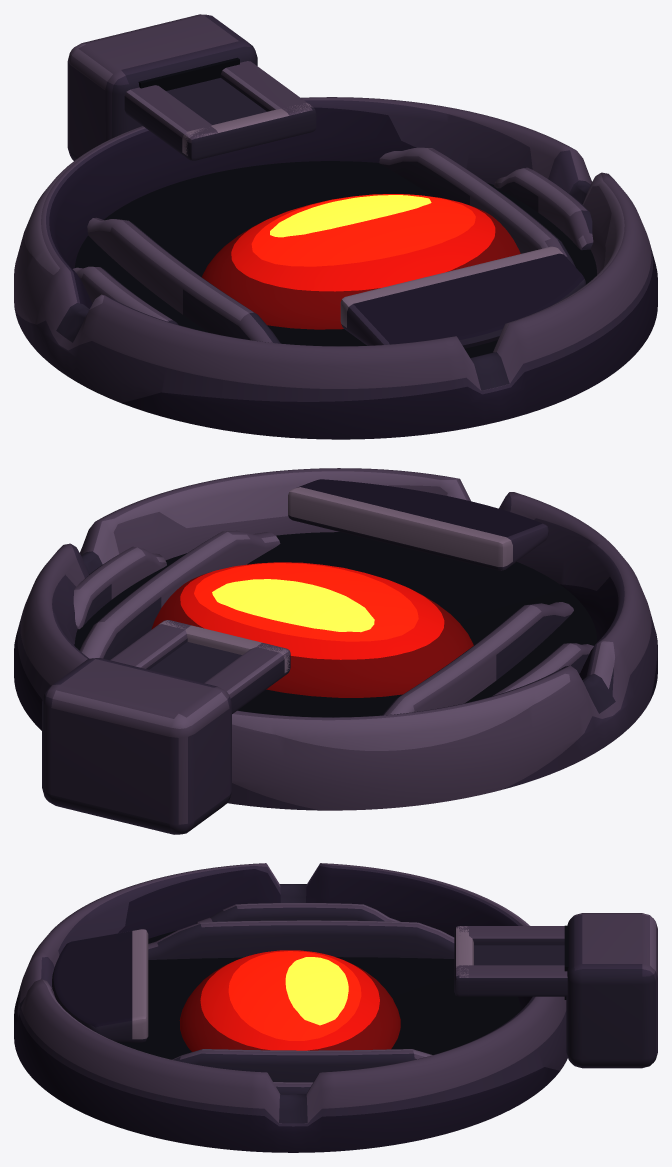
The model's file is eye_hatch_160.glb.
3 views of the same model, one above another, from view 1: azimuth 30°, elevation 25°; view 2: azimuth 150°, elevation 25°; view 3: azimuth 270°, elevation 25° (orthographic). The views are drawn at different scales.
Visible parts, largest first — view 1: eye_hatch_160; view 2: eye_hatch_160; view 3: eye_hatch_160.
Part boxes in pixels (<box>): eye_hatch_160: <box>14,14,657,439</box>; eye_hatch_160: <box>14,468,657,834</box>; eye_hatch_160: <box>14,863,657,1152</box>.
Size of the model in its own units: 17.4 by 3.6 by 20.4.
